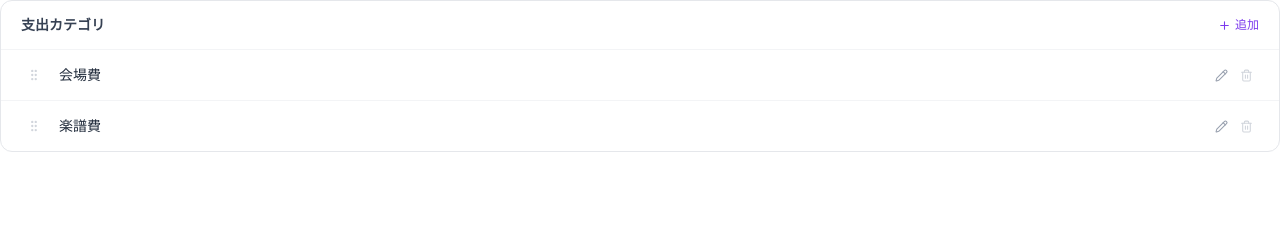
Test: ExpenseCategoryCard（並び替え） › 並び替えに失敗したら元の順序にロールバックし、理由を読み上げる
Press the mouse on the button named "楽譜費をドラッグして並び替え" at [34, 126], box [21,113,47,139]
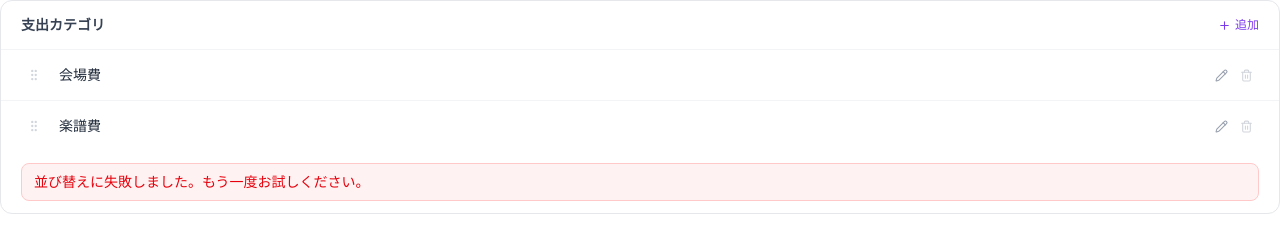
Expected: the message reads "並び替えに失敗しました。もう一度お試しください。", [34,173,370,190]
